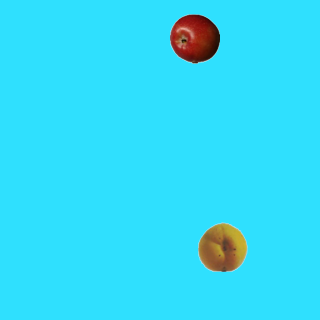Apple Braeburn: (169, 13, 219, 63)
Peach 2: (197, 221, 247, 271)
